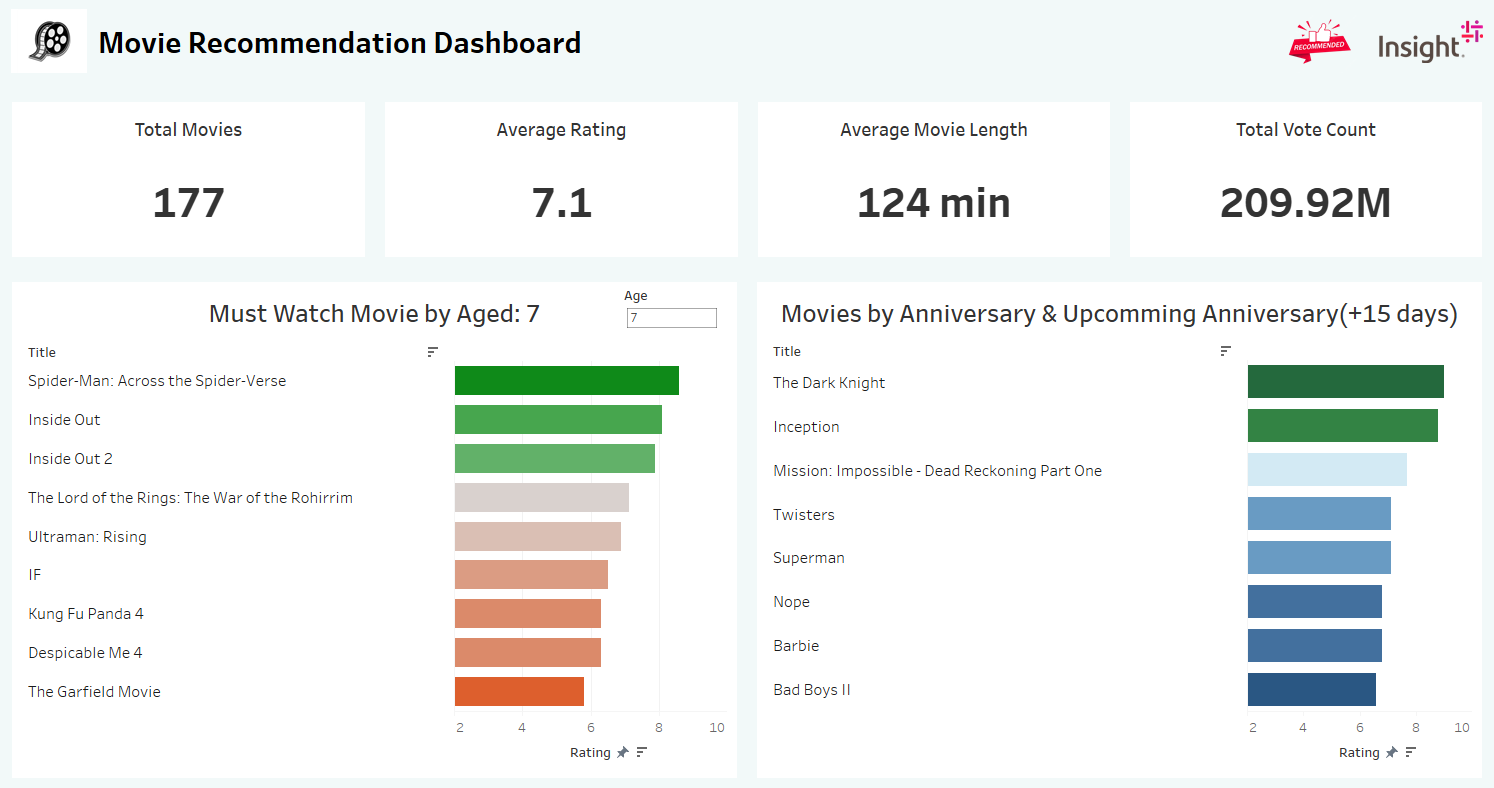

This screenshot's page, from the dashboard's own definition file:
{"tool":"tableau","page":{"name":"recommendation_dashbaord","canvas":[1500,800],"ordinal":1},"visuals":[{"type":"image","box":[10,10,84,72]},{"type":"text","box":[94,10,1172,72]},{"type":"dashboard-object","box":[1266,10,112,72]},{"type":"dashboard-object","box":[1378,10,112,72]},{"type":"worksheet","title":"total_movies","mark":"Automatic","box":[5,97,373,175]},{"type":"worksheet","title":"avg_rating","mark":"Automatic","box":[378,97,373,175]},{"type":"worksheet","title":"avg_movie_length","mark":"Automatic","box":[751,97,372,175]},{"type":"worksheet","title":"total_votecount","mark":"Automatic","box":[1123,97,372,175]},{"type":"worksheet","title":"Recom by Age","mark":"Automatic","rows":["title"],"cols":["rating"],"box":[5,277,745,516]},{"type":"worksheet","title":"movies by anniversary","mark":"Automatic","rows":["title"],"cols":["rating"],"box":[750,277,745,516]},{"type":"parameter","param":"[Parameters].[Parameter 1]","box":[627,291,96,44]}]}

Visuals, with their boxes in screenshot pixels (x1, y1, x2, y2), scaled from the page's 1500x800 canvas onto the 1494x788 screenshot:
image: [10, 10, 94, 81]
text: [94, 10, 1261, 81]
dashboard-object: [1261, 10, 1372, 81]
dashboard-object: [1372, 10, 1484, 81]
"total_movies" worksheet: [5, 96, 376, 268]
"avg_rating" worksheet: [376, 96, 748, 268]
"avg_movie_length" worksheet: [748, 96, 1119, 268]
"total_votecount" worksheet: [1119, 96, 1489, 268]
"Recom by Age" worksheet: [5, 273, 747, 781]
"movies by anniversary" worksheet: [747, 273, 1489, 781]
parameter: [624, 287, 720, 330]
